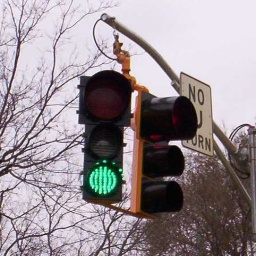traffic light: (130, 90, 199, 219), (139, 90, 198, 218), (77, 69, 132, 201)
